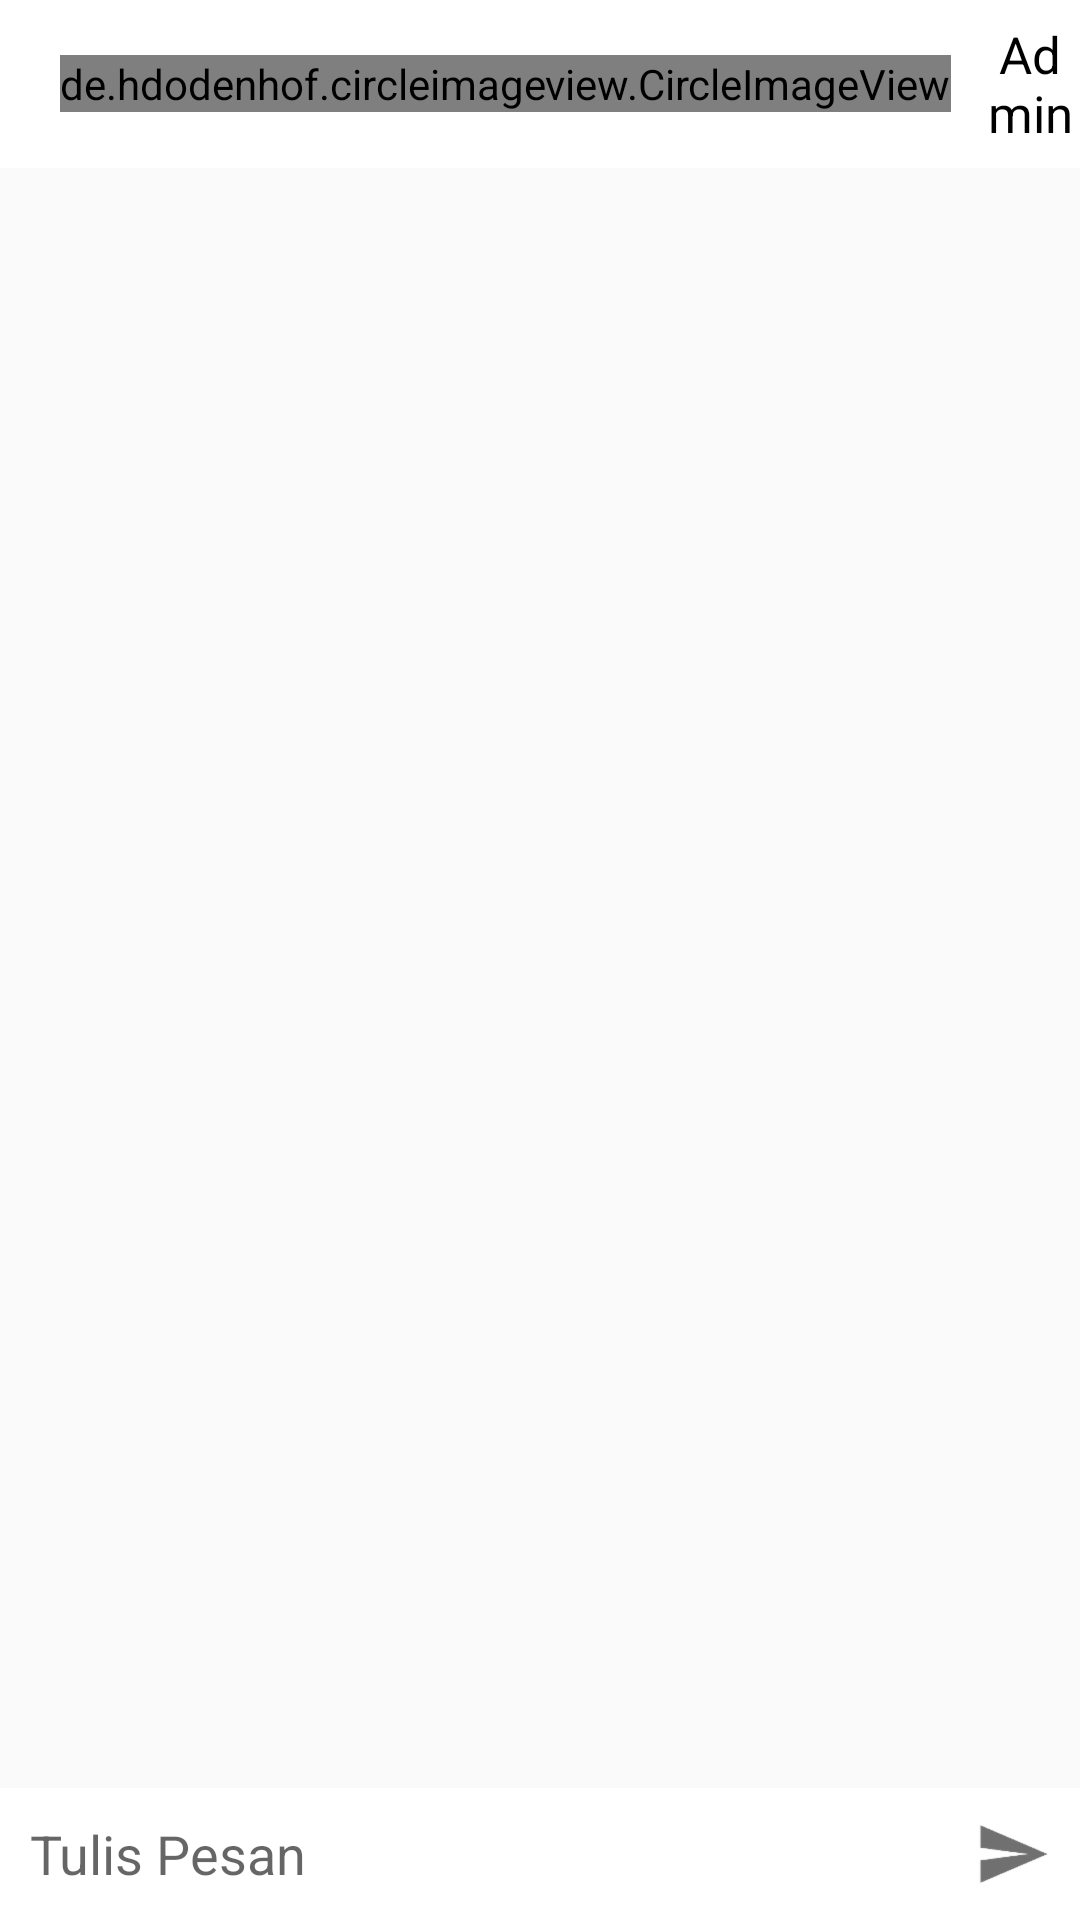

Icon bounding boxes for this 1080w x 1920h phone screenshot, format (x1,y1,x2,y2):
chat send: (980,1825,1047,1883)
